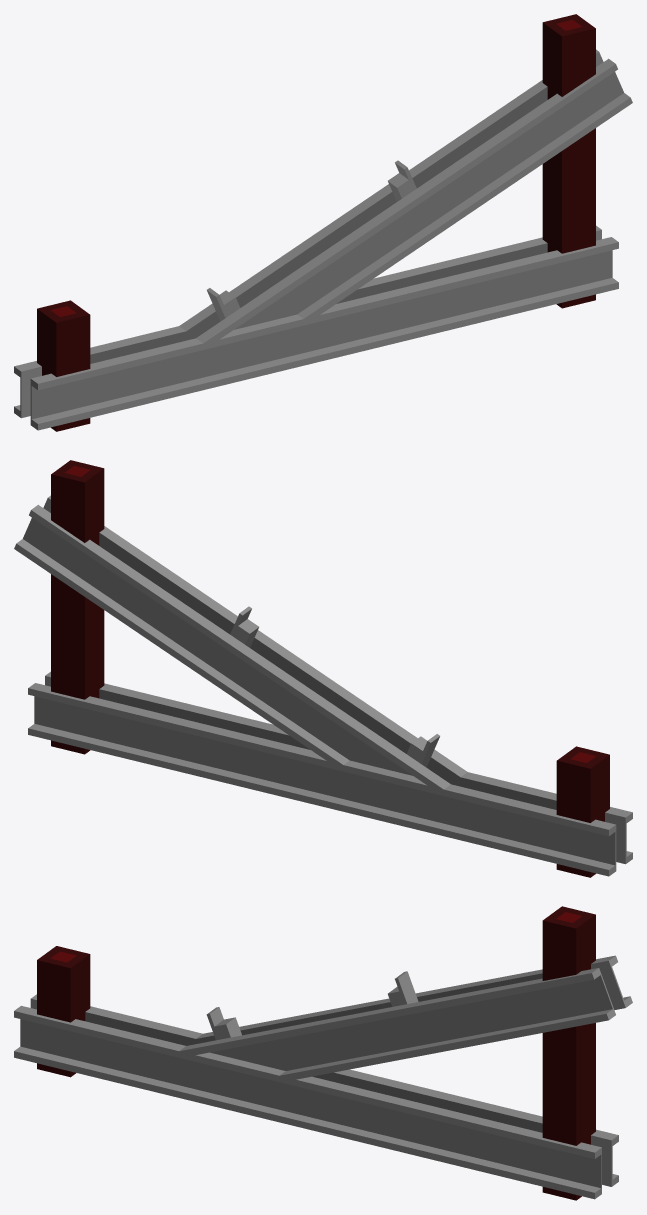
Rendered from rmc_support_bank_half.obj.
3 views of the same model, one above another, from view 1: azimuth 30°, elevation 25°; view 2: azimuth 150°, elevation 25°; view 3: azimuth 330°, elevation 25° (orthographic).
Size of the model in its own units: 3.64 by 1.59 by 0.254.
